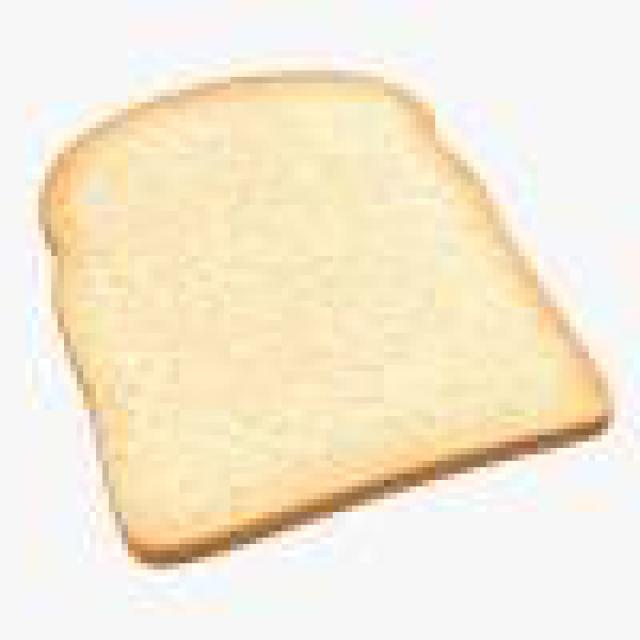Bread: (48, 74, 608, 560)
